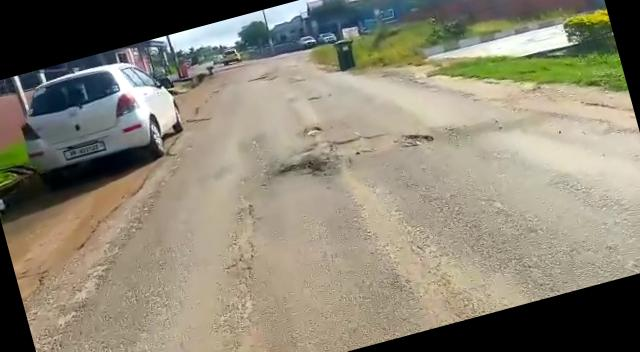pothole: (318, 113, 442, 170), (275, 152, 329, 184), (302, 121, 324, 139)
